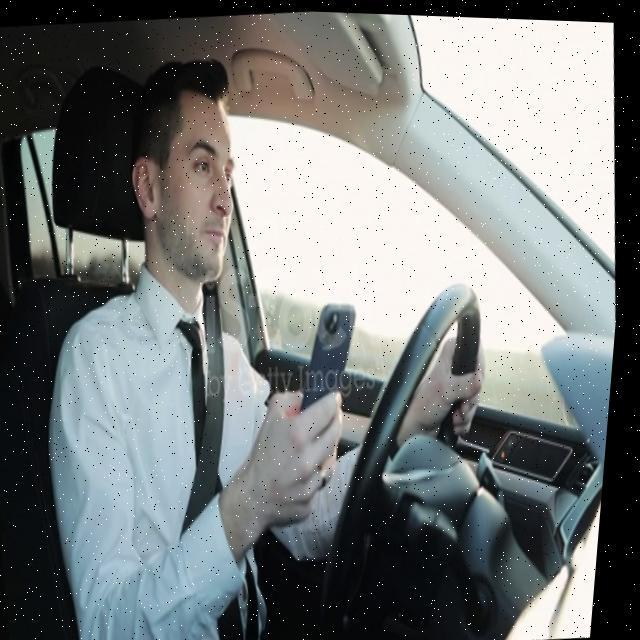PhoneCall: (299, 294, 370, 414)
